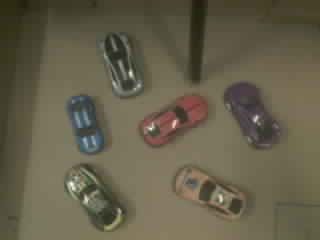Car: (64, 164, 124, 230), (174, 166, 246, 218), (225, 82, 279, 146), (139, 95, 207, 145), (99, 33, 143, 96), (67, 95, 103, 150)
